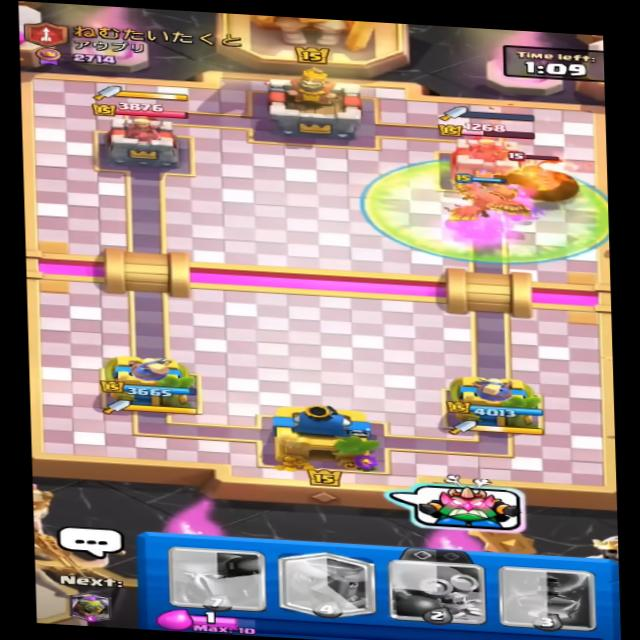Prince: (502, 146, 580, 201)
